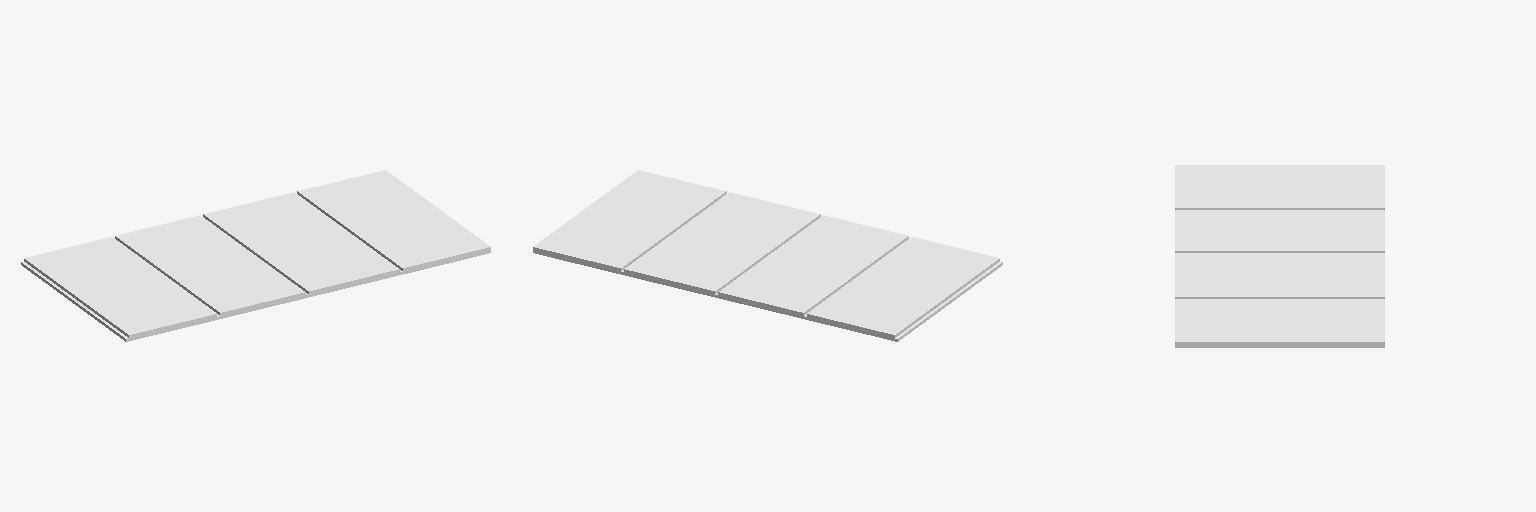
Rendered from ParedInstituto.obj.
3 renders of one model, left to right at view 1: azimuth 30°, elevation 25°; view 2: azimuth 150°, elevation 25°; view 3: azimuth 270°, elevation 25°, orthographic.
Parts seen in each view (by area): view 1: object 1; view 2: object 1; view 3: object 1.
Part boxes in pixels (x1,y1,x2,y2): object 1: (21,170,490,341); object 1: (533,170,1002,341); object 1: (1175,165,1384,347).
Bounding box in the file's own units: 12.4 × 0.2 × 6.2.